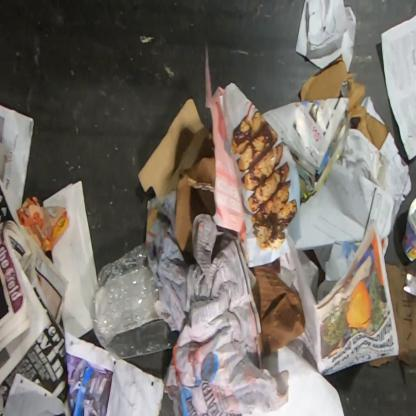cardboard: (300, 54, 391, 151), (138, 98, 213, 198), (174, 155, 216, 253), (401, 197, 415, 263)
soft_plastic: (90, 242, 178, 359)
